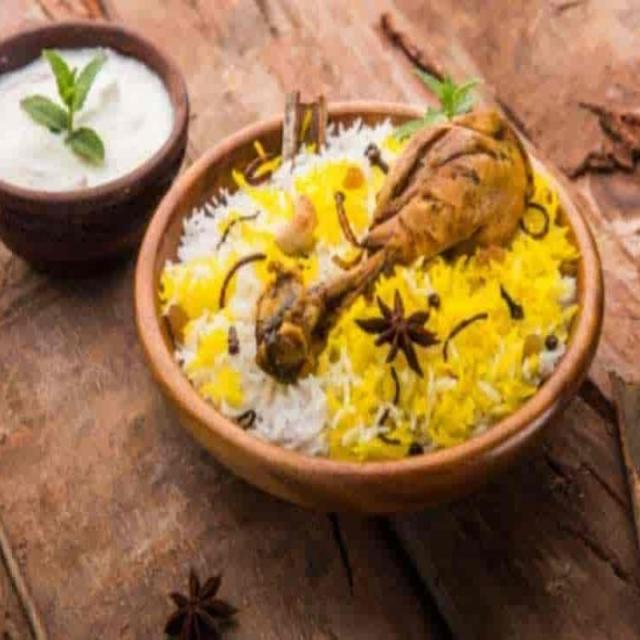Biryani: (167, 98, 594, 475)
